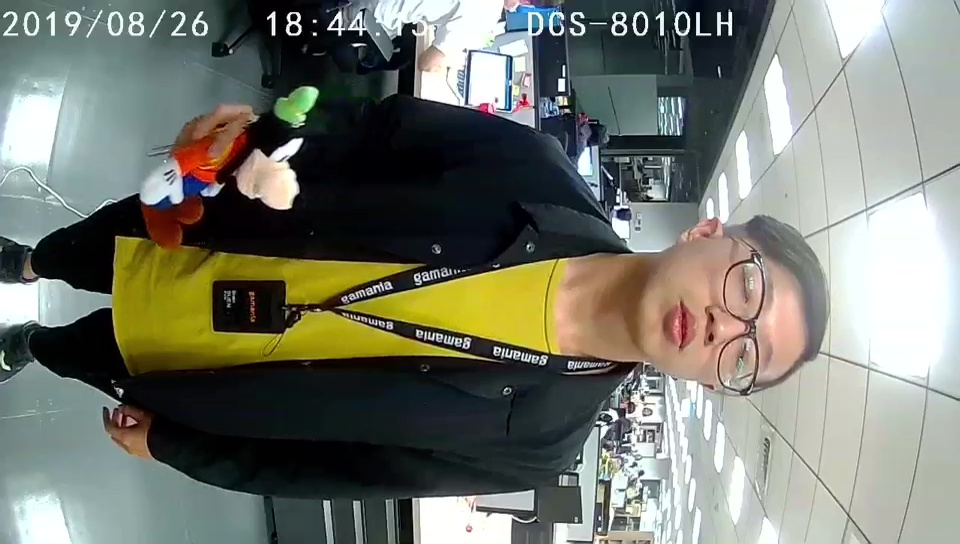goofy: (139, 83, 321, 249)
